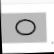no answer: (10, 14, 40, 39)
